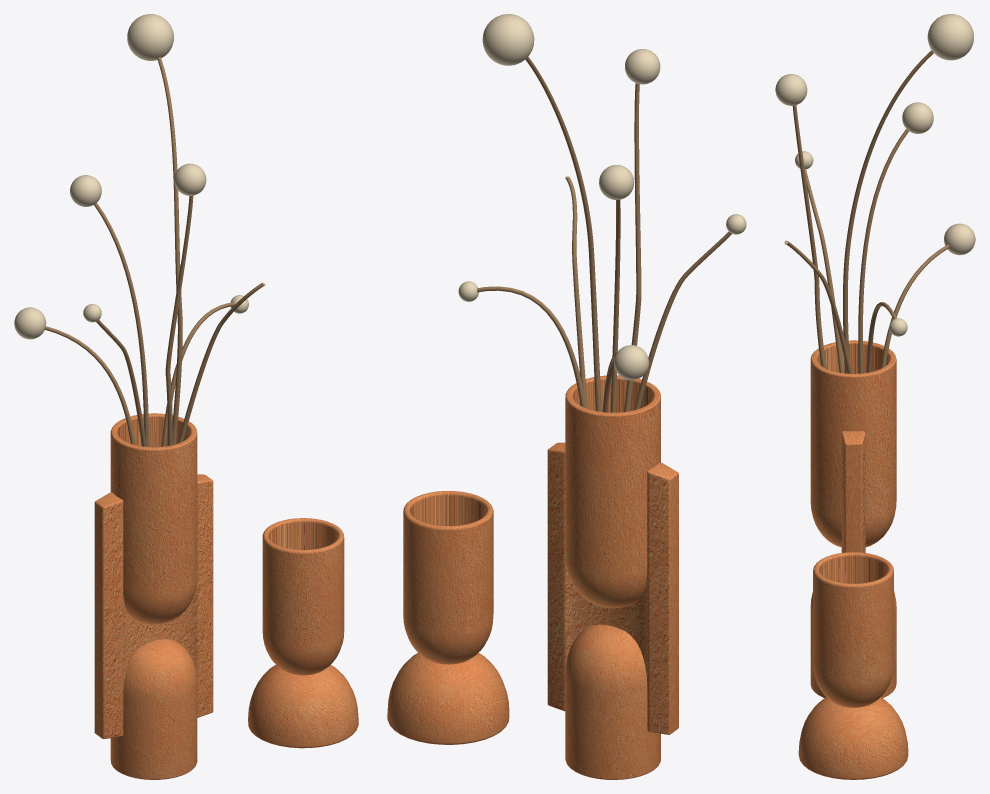
Rendered from MOD_ART_ThreeRooms.fbx_Porcelain_Vase.fbx.
3 renders of one model, left to right at view 1: azimuth 30°, elevation 25°; view 2: azimuth 150°, elevation 25°; view 3: azimuth 270°, elevation 25°, orthographic. The views are drawn at different scales.
Parts seen in each view (by area): view 1: Cube.026, Cube.025, BezierCurve.001, Sphere.005, Sphere, Sphere.004, Sphere.006; view 2: Cube.026, Cube.025, BezierCurve.001, Sphere.005, Sphere, Sphere.004, Sphere.006; view 3: Cube.025, Cube.026, BezierCurve.001, Sphere.005, Sphere, Sphere.006, Sphere.004.
Boxes of the visible parts, <box> form: Cube.026: <box>94,413,213,779</box>; Cube.025: <box>248,518,358,748</box>; BezierCurve.001: <box>44,57,263,446</box>; Sphere.005: <box>127,14,173,60</box>; Sphere: <box>174,163,206,195</box>; Sphere.004: <box>14,307,46,339</box>; Sphere.006: <box>70,175,101,206</box>; Cube.026: <box>547,375,678,779</box>; Cube.025: <box>387,491,509,744</box>; BezierCurve.001: <box>477,56,731,412</box>; Sphere.005: <box>482,14,534,65</box>; Sphere: <box>625,49,660,84</box>; Sphere.004: <box>614,345,648,380</box>; Sphere.006: <box>599,165,634,199</box>; Cube.025: <box>798,552,908,779</box>; Cube.026: <box>810,340,896,698</box>; BezierCurve.001: <box>784,50,949,373</box>; Sphere.005: <box>927,14,973,60</box>; Sphere: <box>775,74,807,105</box>; Sphere.006: <box>902,102,933,133</box>; Sphere.004: <box>944,223,975,255</box>.
Bounding box in the file's own units: 29.57 × 67.66 × 17.73.
4 materials, 2 textured.
